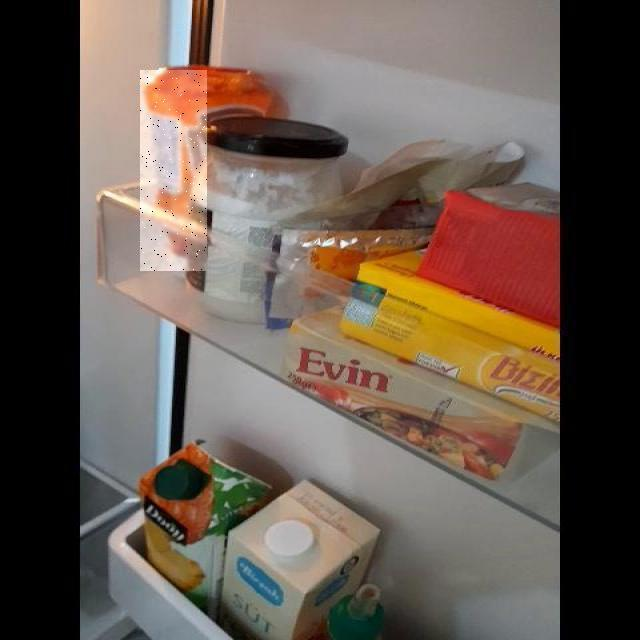Sauce: (140, 70, 207, 271)
